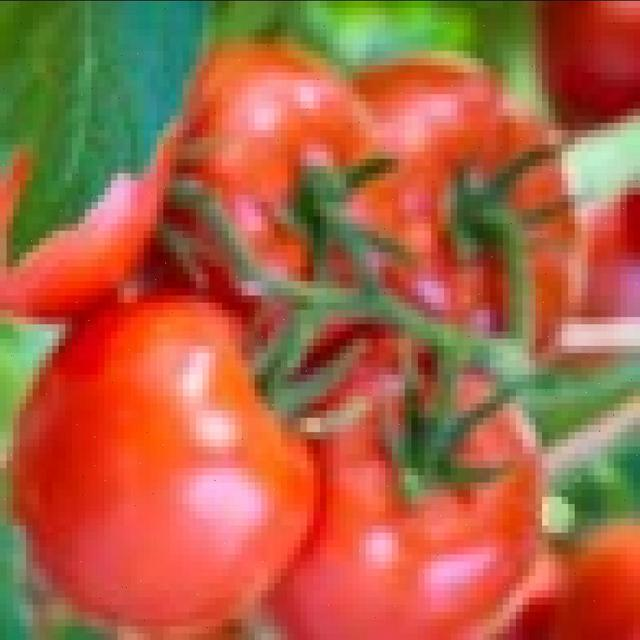Healthy Fruit: (111, 144, 299, 330)
